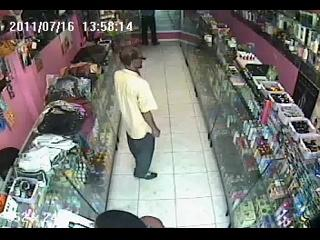Normal: (113, 46, 161, 180), (140, 10, 160, 46)
